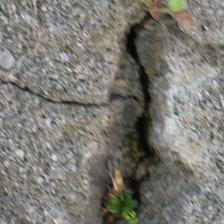Crack: (123, 0, 173, 125), (44, 42, 105, 127)
